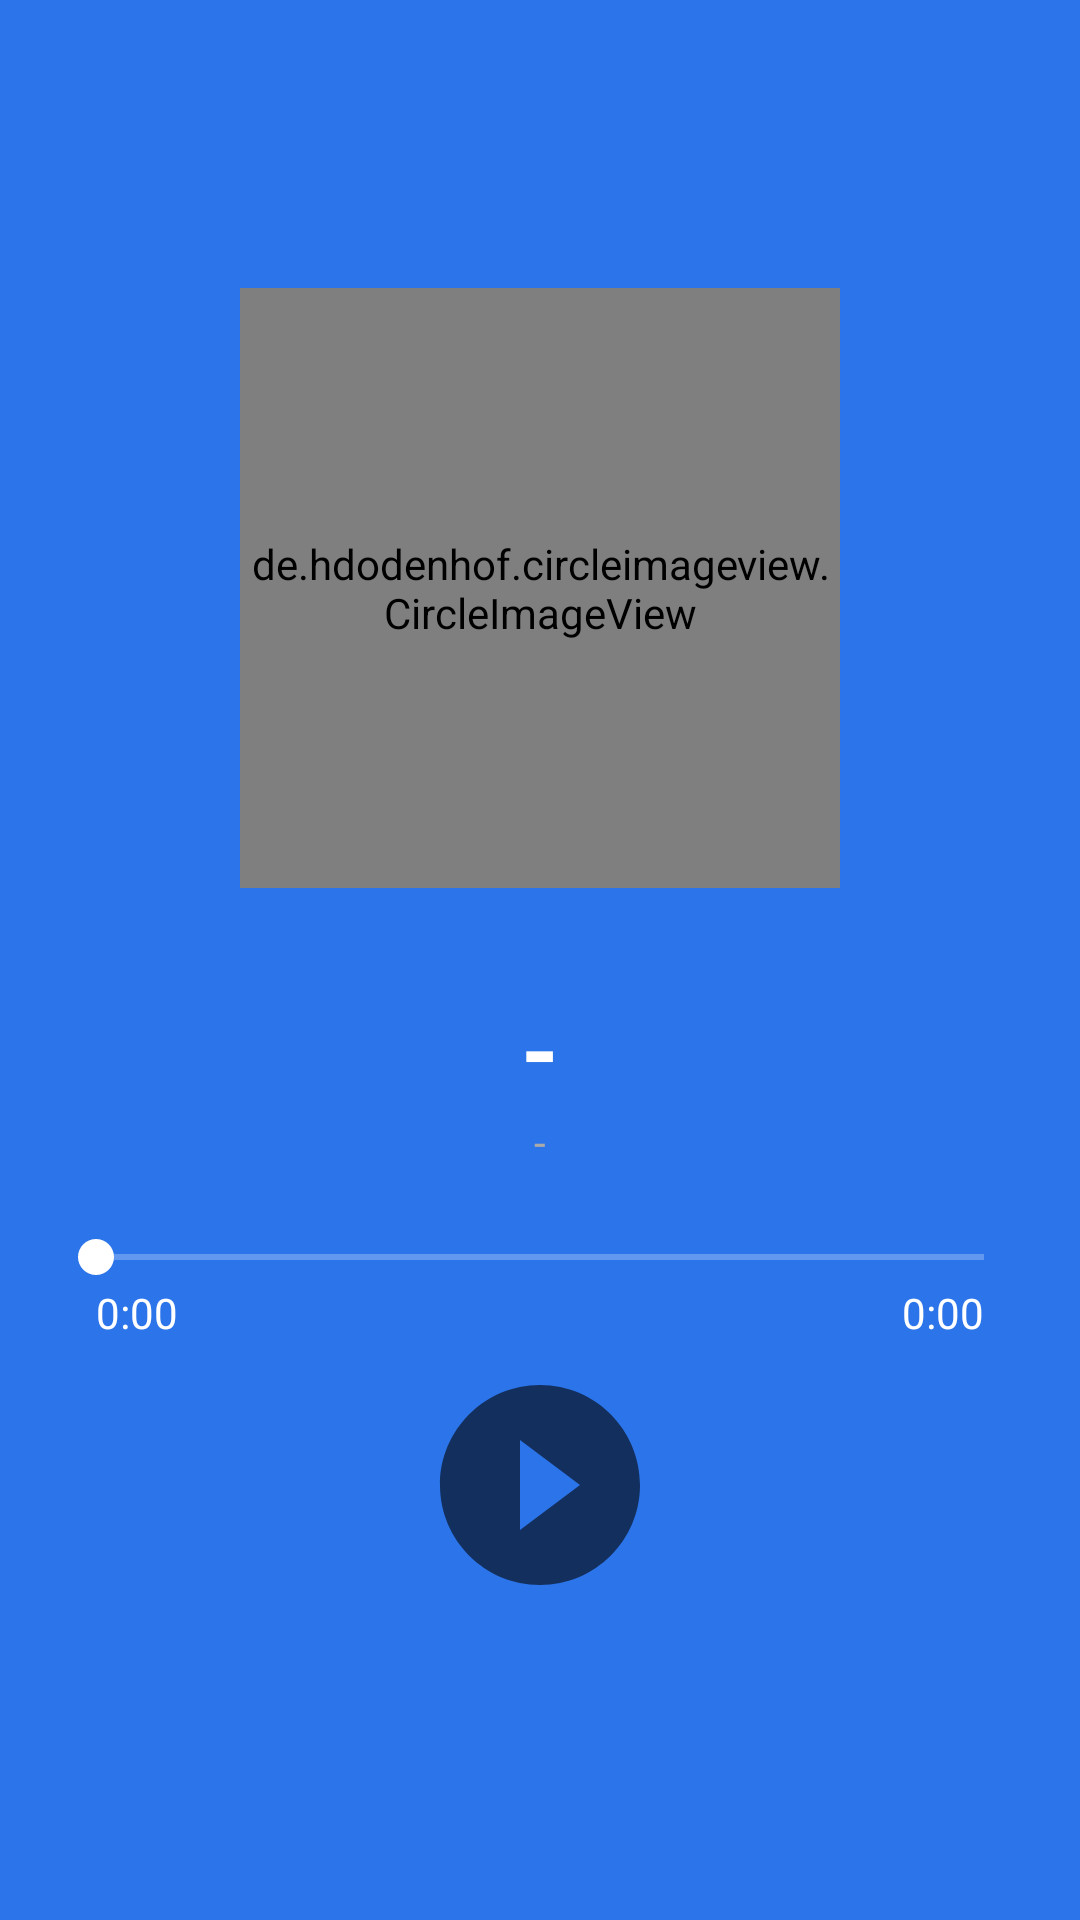

Icons on this 1080*1920 Android screen, each with its box as bbox=[x1, y1, x2, y2]:
play circle: bbox=[440, 1385, 640, 1585]
